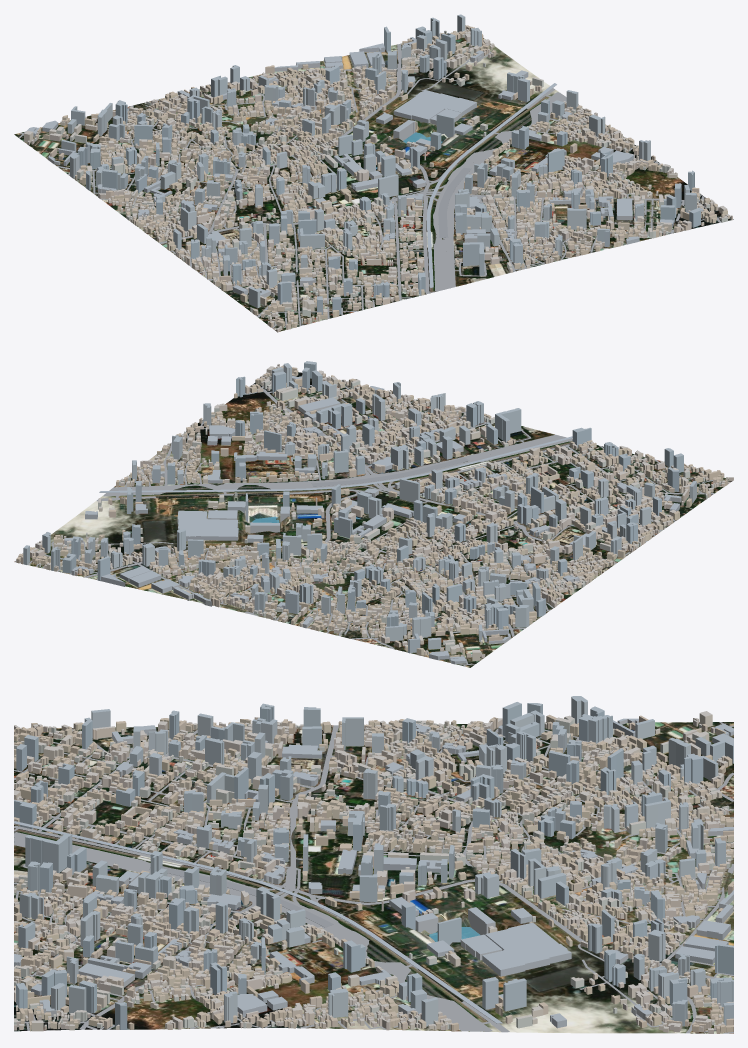
3 views of the same model, one above another, from view 1: azimuth 30°, elevation 25°; view 2: azimuth 150°, elevation 25°; view 3: azimuth 270°, elevation 25° (orthographic). The views are drawn at different scales.
Parts seen in each view (by area): view 1: BLDG_MODERN_TOWER, TERRAIN, BLDG_TUBE_HOUSE, BLDG_SHOPHOUSE, ROAD_METRO, BLDG_INDUSTRIAL_PORT; view 2: BLDG_MODERN_TOWER, BLDG_TUBE_HOUSE, TERRAIN, BLDG_SHOPHOUSE, BLDG_INDUSTRIAL_PORT, ROAD_METRO; view 3: BLDG_MODERN_TOWER, BLDG_TUBE_HOUSE, TERRAIN, BLDG_SHOPHOUSE, BLDG_INDUSTRIAL_PORT, ROAD_METRO.
Part boxes in pixels (left/top/right/bottom): BLDG_MODERN_TOWER: left=61, top=14, right=700, bottom=314; TERRAIN: left=14, top=31, right=733, bottom=331; BLDG_TUBE_HOUSE: left=24, top=29, right=732, bottom=332; BLDG_SHOPHOUSE: left=35, top=25, right=727, bottom=329; ROAD_METRO: left=19, top=31, right=725, bottom=328; BLDG_INDUSTRIAL_PORT: left=26, top=37, right=703, bottom=297; BLDG_MODERN_TOWER: left=23, top=361, right=696, bottom=653; BLDG_TUBE_HOUSE: left=22, top=364, right=733, bottom=660; TERRAIN: left=14, top=372, right=732, bottom=667; BLDG_SHOPHOUSE: left=16, top=366, right=727, bottom=657; BLDG_INDUSTRIAL_PORT: left=64, top=375, right=681, bottom=664; ROAD_METRO: left=15, top=384, right=728, bottom=666; BLDG_MODERN_TOWER: left=14, top=696, right=733, bottom=1029; BLDG_TUBE_HOUSE: left=14, top=711, right=733, bottom=1033; TERRAIN: left=14, top=722, right=733, bottom=1033; BLDG_SHOPHOUSE: left=14, top=714, right=733, bottom=1033; BLDG_INDUSTRIAL_PORT: left=14, top=718, right=733, bottom=1028; ROAD_METRO: left=14, top=722, right=733, bottom=1033.
Bounding box in the file's own units: 2000 × 118 × 2000.
7 materials, 1 textured.
